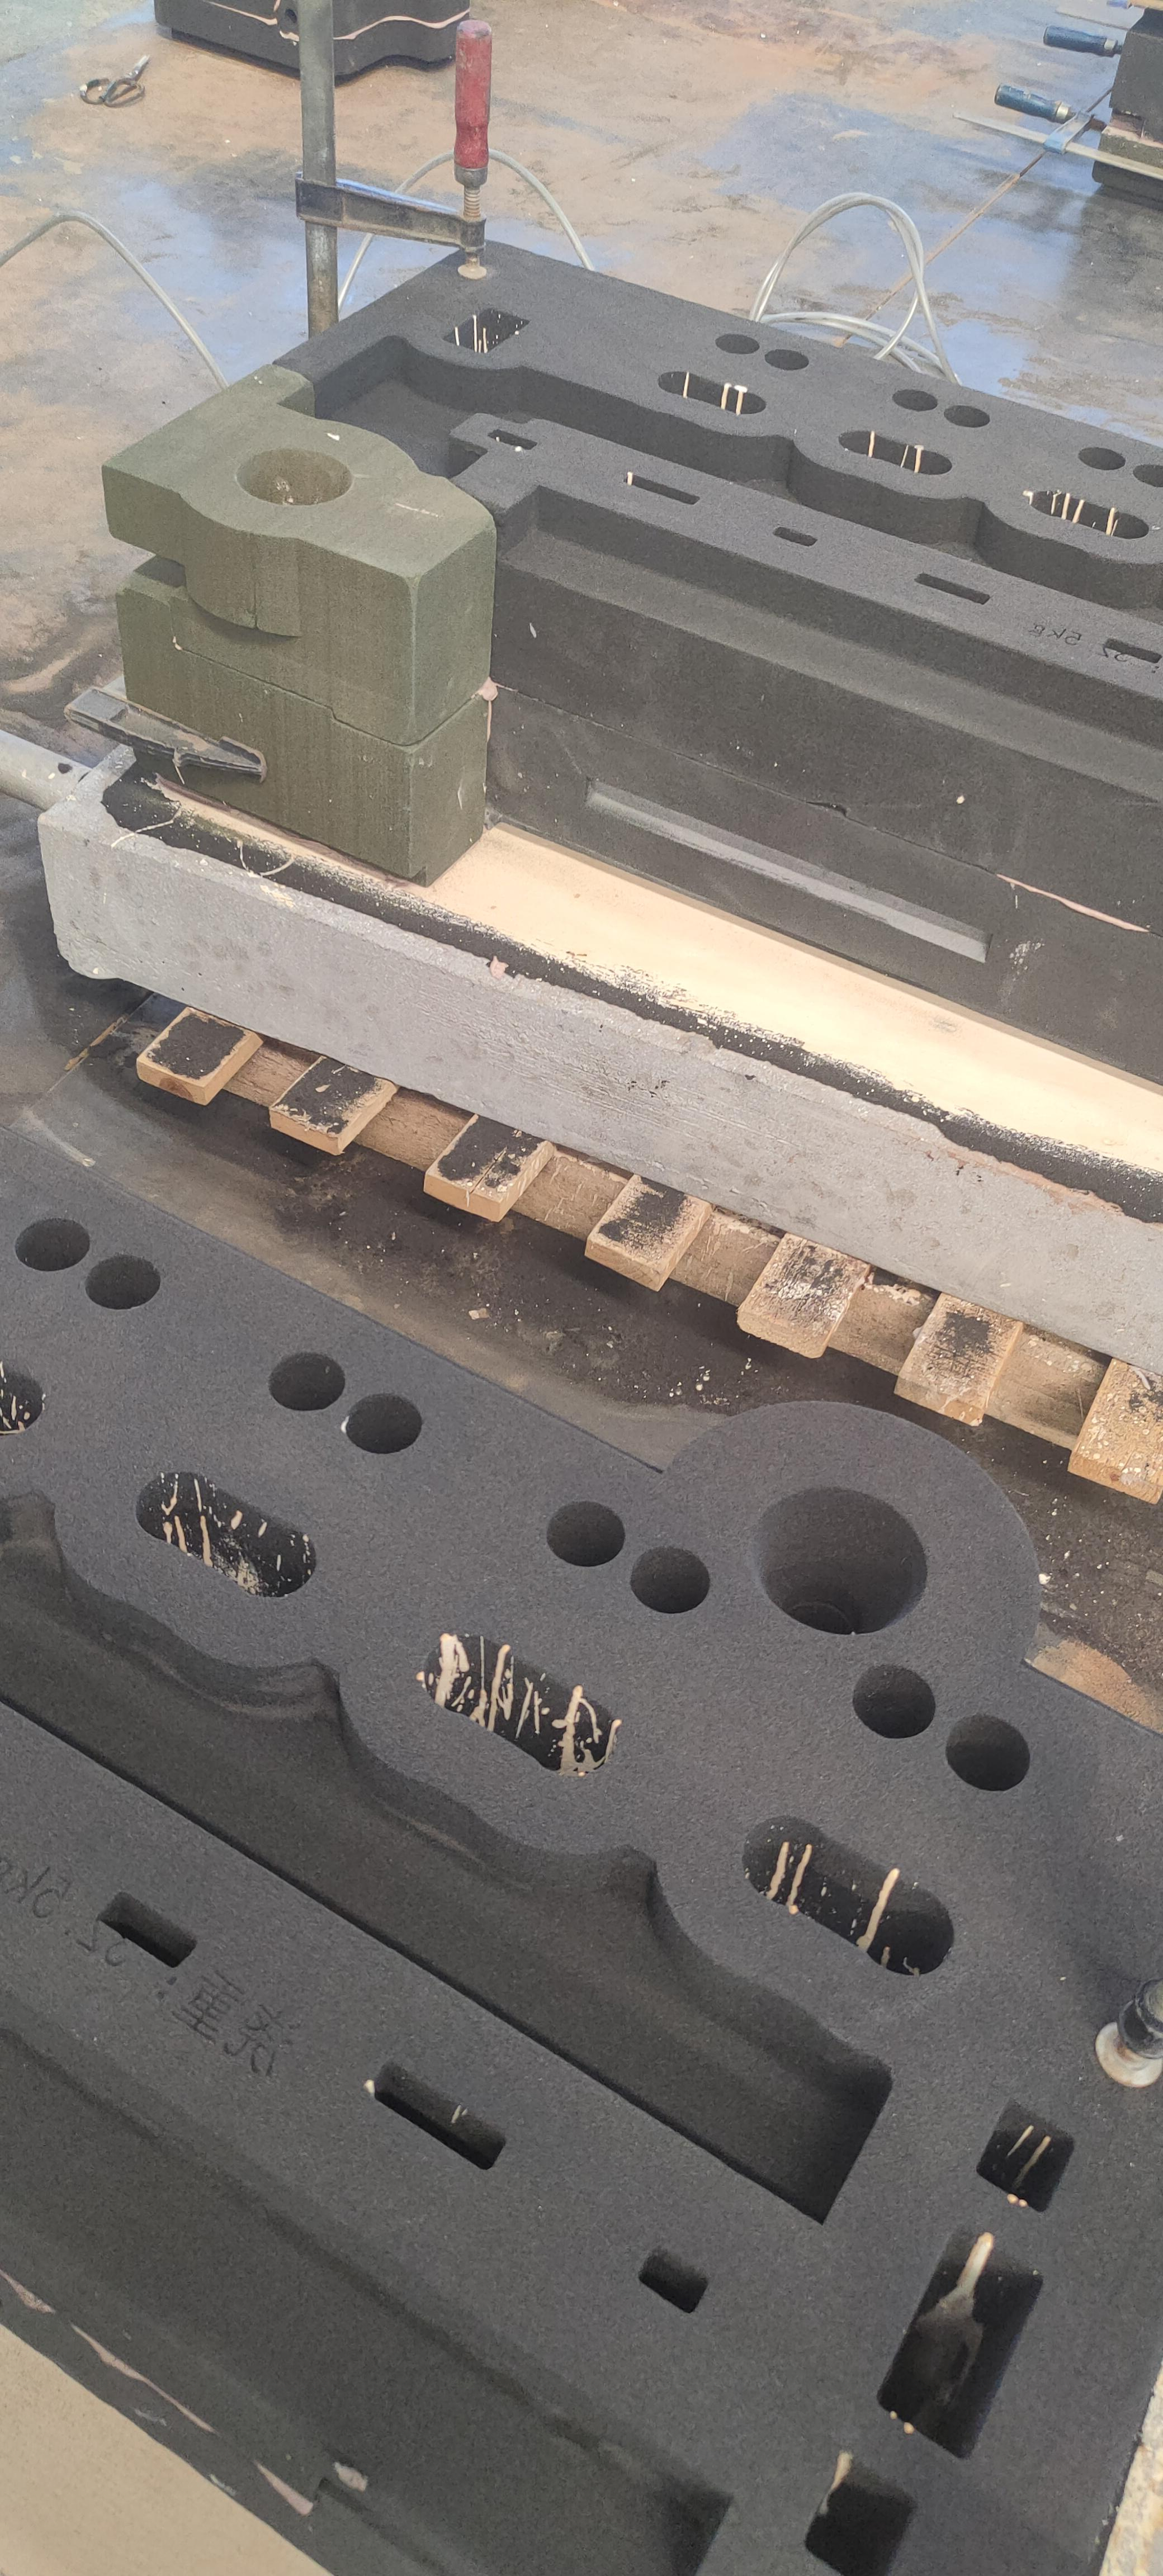pouring hole: (751, 1485, 926, 1636), (235, 449, 352, 504)
